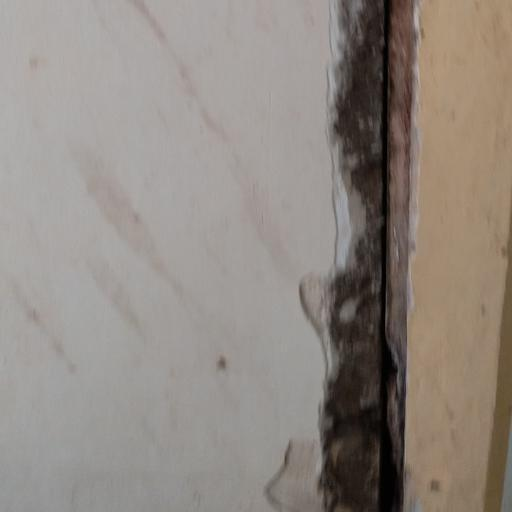spalling: (290, 0, 420, 512)
